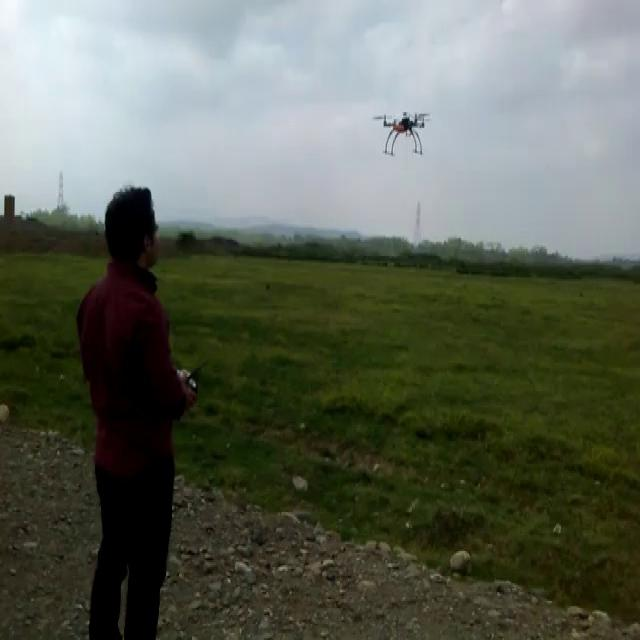drone: (370, 105, 431, 156)
